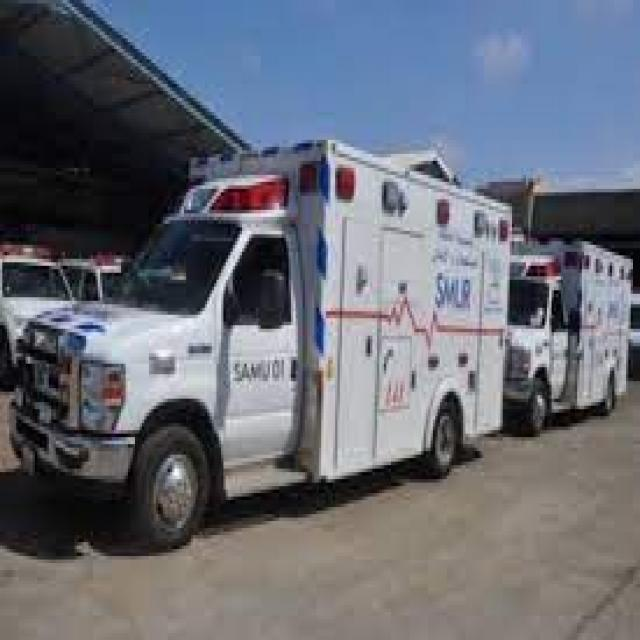ambulance: (8, 138, 510, 550), (504, 237, 632, 433)
